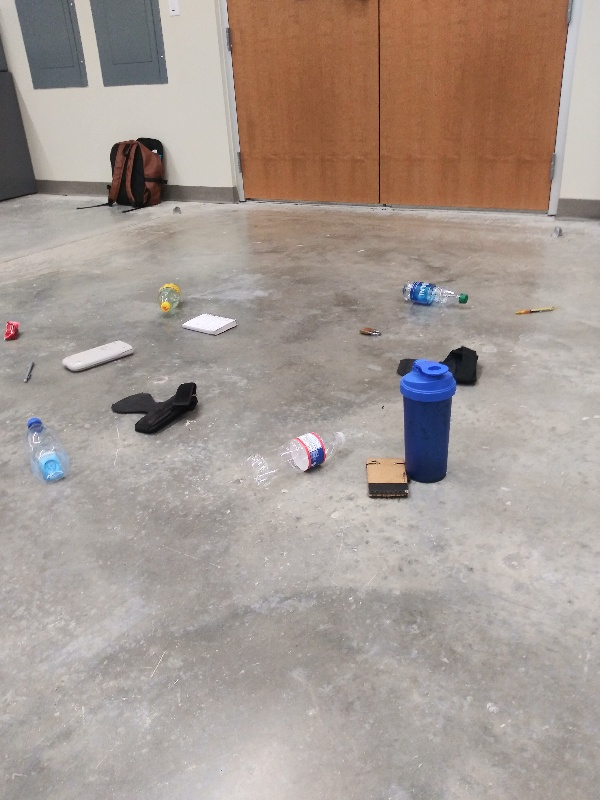bottle: (239, 426, 351, 498), (21, 412, 71, 484), (398, 277, 474, 310), (155, 274, 185, 318)
